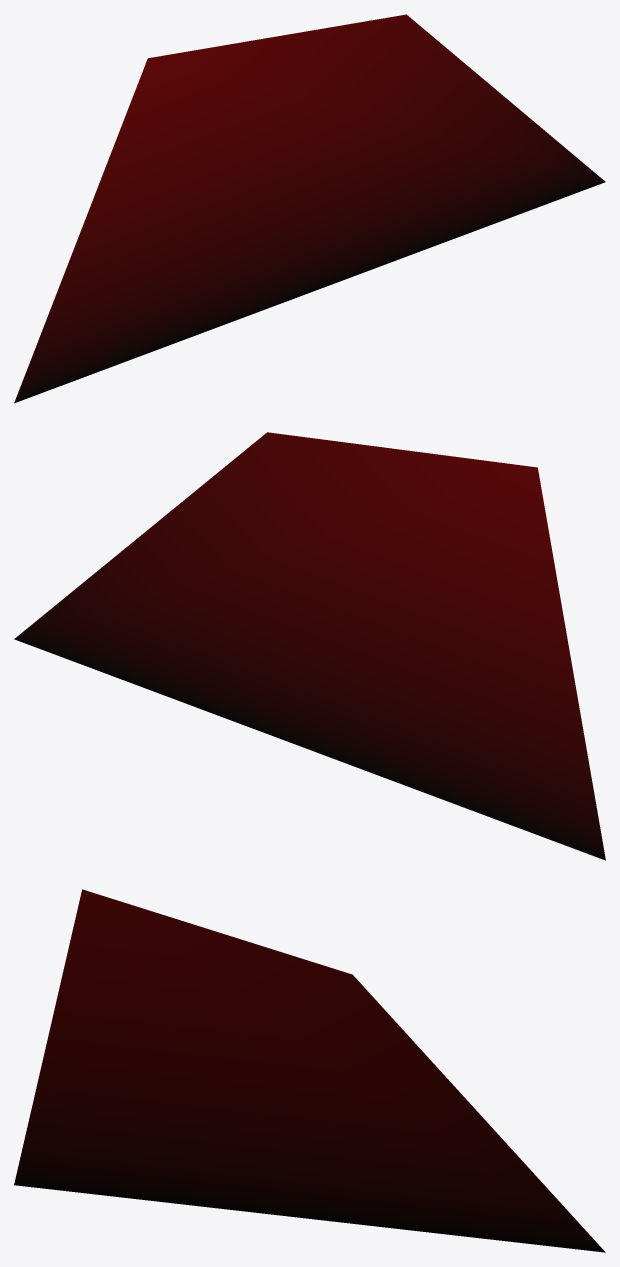
The model's file is Grass6.glb.
3 views of the same model, one above another, from view 1: azimuth 30°, elevation 25°; view 2: azimuth 150°, elevation 25°; view 3: azimuth 330°, elevation 25° (orthographic).
Parts seen in each view (by area): view 1: Grass.005; view 2: Grass.005; view 3: Grass.005.
Boxes of the visible parts, <box> form: Grass.005: <box>14,14,605,403</box>; Grass.005: <box>14,432,605,860</box>; Grass.005: <box>14,889,605,1252</box>.
Size of the model in its own units: 0.3166 by 0.1761 by 0.0304.
